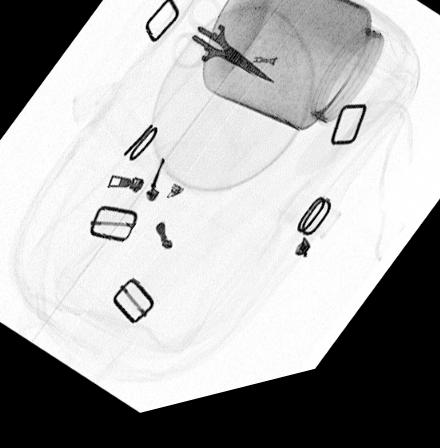Scissors: (168, 2, 278, 98)
